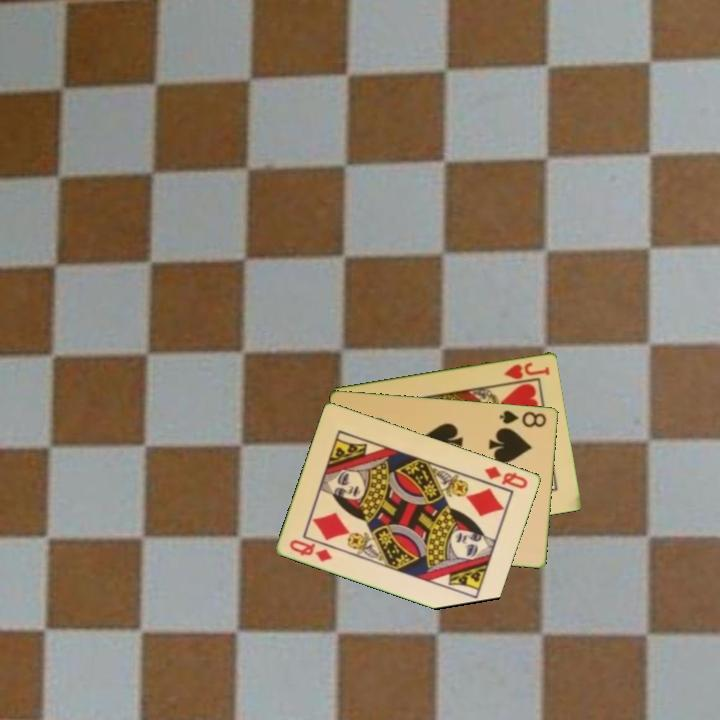8s: (496, 406, 549, 430)
Jh: (500, 358, 553, 382)
Qd: (286, 536, 336, 565), (481, 463, 531, 491)
